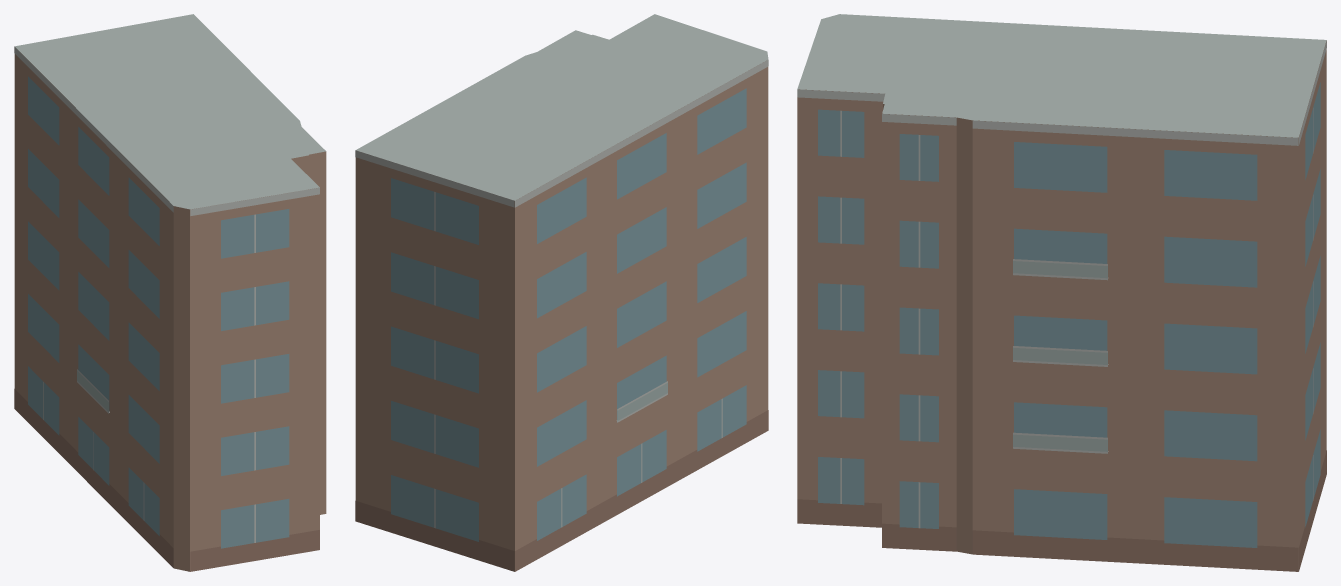
The model's file is survey-upis-32710762.glb.
3 views of the same model, side by side, from view 1: azimuth 30°, elevation 25°; view 2: azimuth 150°, elevation 25°; view 3: azimuth 270°, elevation 25° (orthographic). The views are drawn at different scales.
Visible parts, largest first — view 1: survey-upis-32710762.tmp; view 2: survey-upis-32710762.tmp; view 3: survey-upis-32710762.tmp.
Boxes of the visible parts, bbox=[...] form: survey-upis-32710762.tmp: bbox=[14, 14, 326, 571]; survey-upis-32710762.tmp: bbox=[355, 14, 768, 571]; survey-upis-32710762.tmp: bbox=[797, 14, 1326, 571].
Size of the model in its own units: 7.96 by 13 by 14.38.
